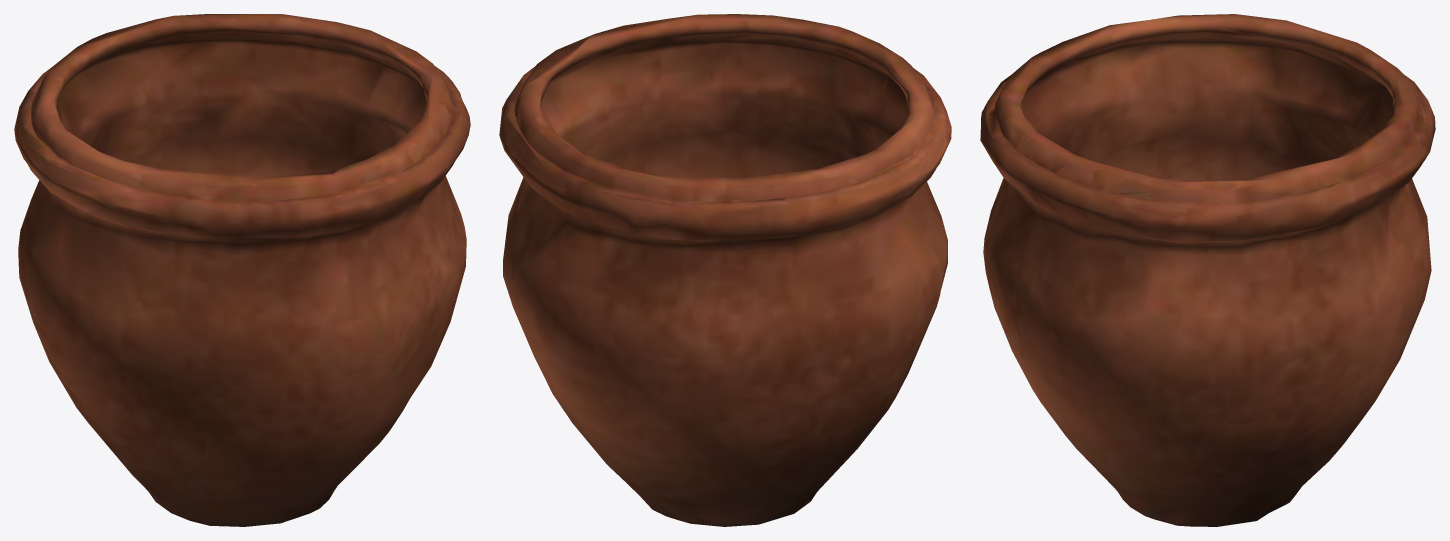
The model's file is chipped-terracotta-pot-v001.glb.
The picture shows the model from 3 angles, left to right: view 1: azimuth 30°, elevation 25°; view 2: azimuth 150°, elevation 25°; view 3: azimuth 270°, elevation 25°; orthographic projection.
Visible parts, largest first — view 1: chipped-terracotta-pot; view 2: chipped-terracotta-pot; view 3: chipped-terracotta-pot.
Boxes of the visible parts, <box> form: chipped-terracotta-pot: <box>14,14,470,526</box>; chipped-terracotta-pot: <box>499,14,951,526</box>; chipped-terracotta-pot: <box>980,14,1435,526</box>.
Bounding box in the file's own units: 0.6593 × 0.6284 × 0.6603.
1 material, 1 textured.
